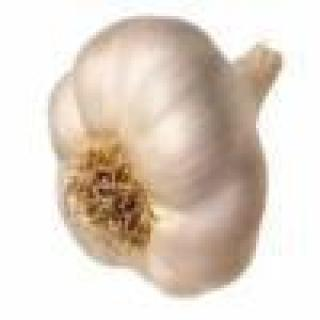Bawang Putih: (49, 11, 289, 292)
